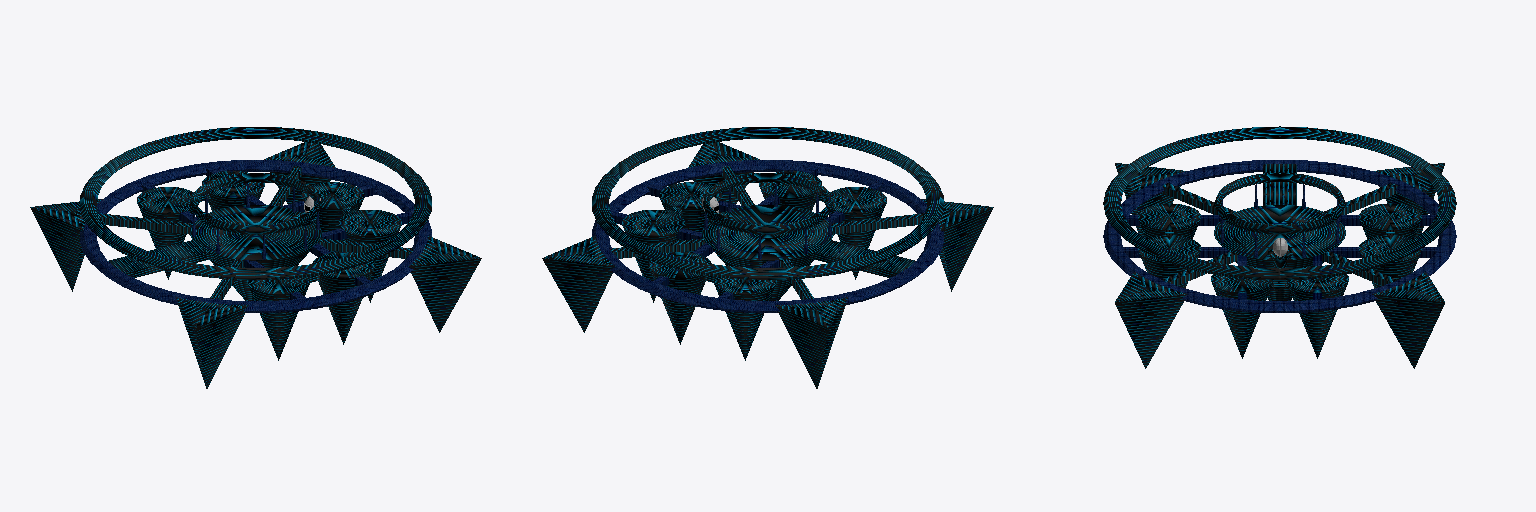
The picture shows the model from 3 angles: view 1: azimuth 30°, elevation 25°; view 2: azimuth 150°, elevation 25°; view 3: azimuth 270°, elevation 25°; orthographic projection.
Parts seen in each view (by area): view 1: Torus1, Torus, Cone5, Cone3, Cone4, Cone1, Torus3, Cone8, Cone7, Cone18, Cone9, Cone19 (+5 smaller); view 2: Torus1, Torus, Cone5, Cone2, Cone1, Cone4, Torus3, Cone7, Cone8, Cone19, Cone6, Cone18 (+5 smaller); view 3: Torus1, Torus, Cone5, Cone3, Cone2, Torus3, Cone18, Cone19, Cone8, Cone7, Cone6, Cone9 (+7 smaller).
Boxes of the visible parts, box(x1,y1,x2,y2) form: Torus1: box(80, 127, 431, 279); Torus: box(80, 160, 431, 312); Cone5: box(190, 205, 321, 300); Cone3: box(408, 236, 481, 332); Cone4: box(176, 297, 248, 388); Cone1: box(30, 199, 102, 291); Torus3: box(191, 173, 320, 233); Cone8: box(247, 277, 309, 360); Cone7: box(137, 187, 199, 279); Cone18: box(339, 210, 401, 302); Cone9: box(312, 252, 374, 344); Cone19: box(301, 182, 364, 252); Torus1: box(592, 127, 943, 279); Torus: box(592, 160, 943, 312); Cone5: box(702, 205, 833, 300); Cone2: box(542, 236, 615, 332); Cone1: box(775, 297, 847, 388); Cone4: box(921, 199, 993, 291); Torus3: box(703, 173, 832, 233); Cone7: box(714, 277, 776, 360); Cone8: box(824, 187, 886, 279); Cone19: box(622, 210, 684, 302); Cone6: box(649, 252, 711, 344); Cone18: box(659, 182, 722, 252); Torus1: box(1103, 126, 1456, 279); Torus: box(1103, 160, 1456, 312); Cone5: box(1214, 205, 1345, 300); Cone3: box(1115, 271, 1187, 368); Cone2: box(1372, 271, 1444, 368); Torus3: box(1215, 172, 1344, 233); Cone18: box(1211, 266, 1273, 358); Cone19: box(1286, 266, 1348, 358); Cone8: box(1138, 203, 1200, 238); Cone7: box(1359, 203, 1421, 238); Cone6: box(1359, 235, 1421, 288); Cone9: box(1138, 235, 1200, 288).
Bounding box in the file's own units: 40 × 14.17 × 40.
Materials: 4 (2 with a texture image).